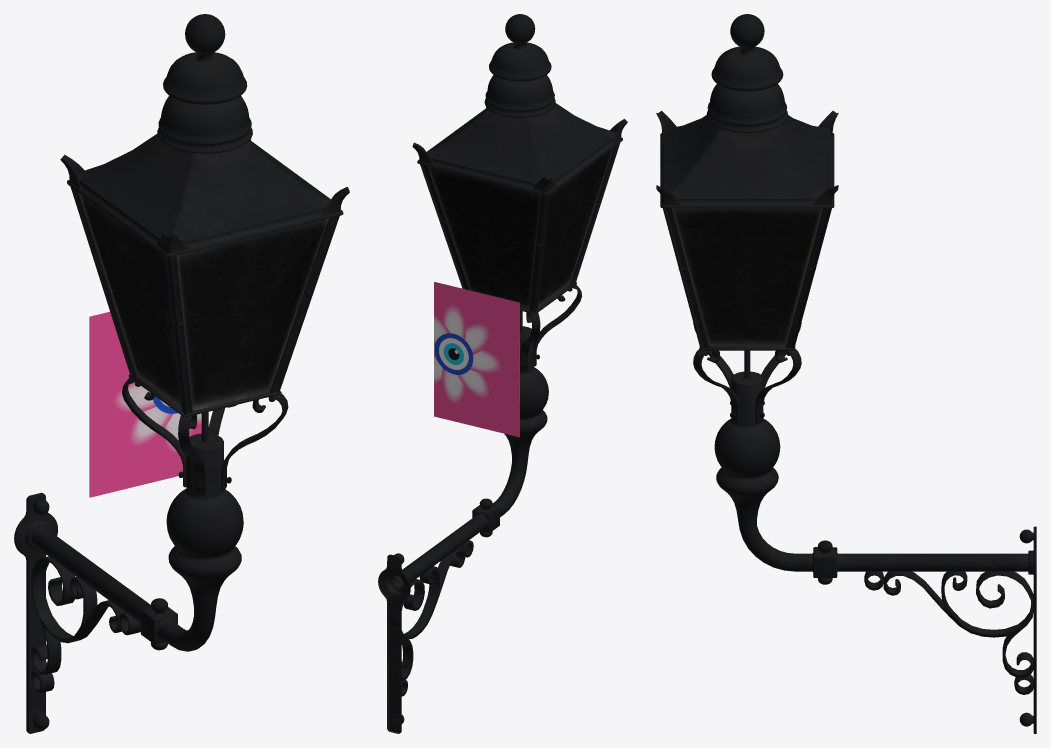
The model's file is nyb_producers_lamp.glb.
3 views of the same model, side by side, from view 1: azimuth 30°, elevation 25°; view 2: azimuth 150°, elevation 25°; view 3: azimuth 270°, elevation 25° (orthographic). The views are drawn at different scales.
Parts seen in each view (by area): view 1: street_lamp_02, add_lbl_1ec3907588.png; view 2: street_lamp_02, add_lbl_1ec3907588.png; view 3: street_lamp_02.
Boxes of the visible parts, x1,y1,x2,y2 form: street_lamp_02: [14, 14, 349, 733]; add_lbl_1ec3907588.png: [89, 311, 201, 497]; street_lamp_02: [378, 14, 627, 733]; add_lbl_1ec3907588.png: [434, 282, 519, 437]; street_lamp_02: [656, 14, 1036, 733].
Size of the model in its own units: 0.3867 by 1.67 by 0.8069.
4 materials, 4 textured.
